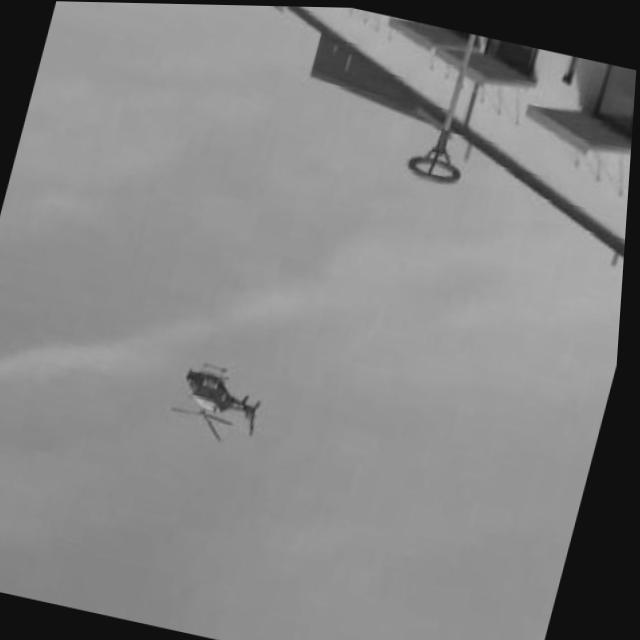helikopter: (168, 346, 288, 457)
